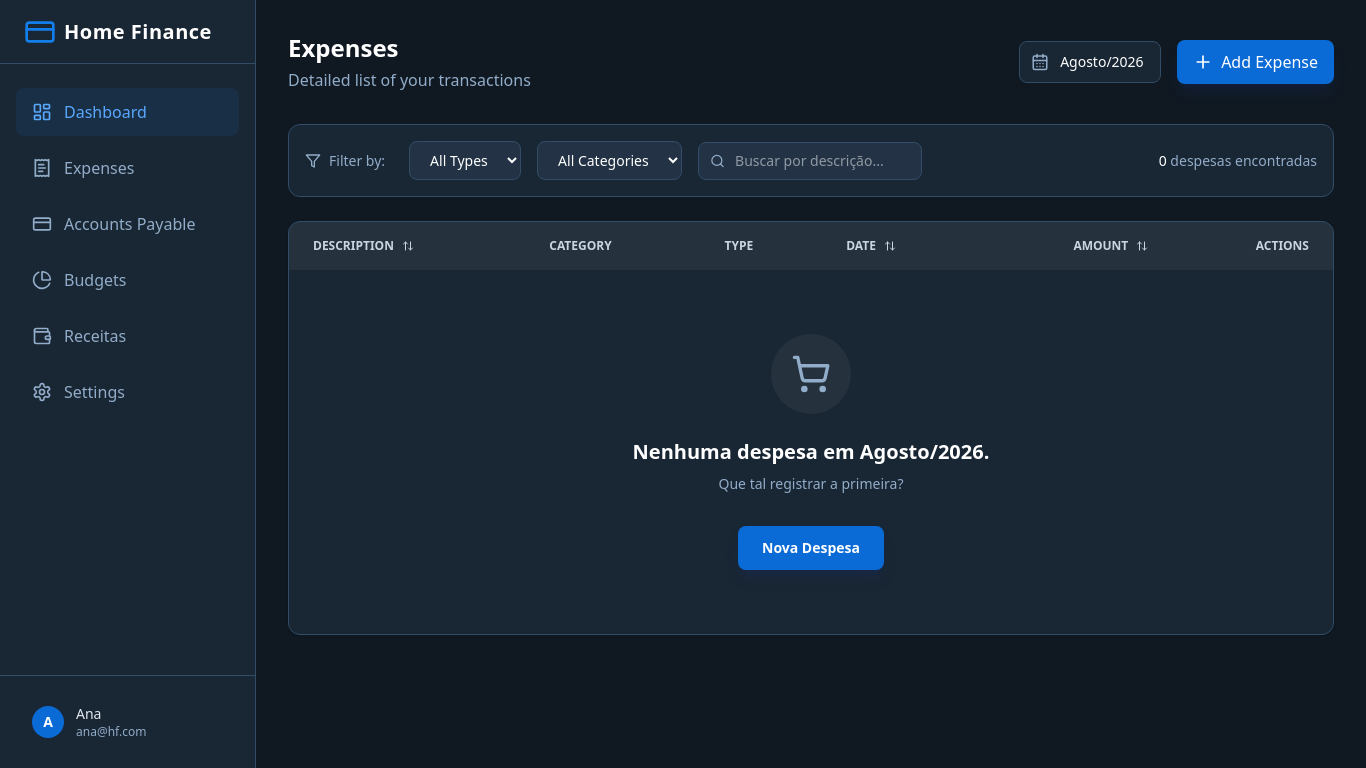
Scenario: Expenses (integração) › mostra estado vazio e abre o modal pela ação "Nova Despesa"
Expected: the heading "Nenhuma despesa em" is shown, x1=633 y1=438 x2=989 y2=465
Click the button "Nova Despesa" at (811, 548), box x1=738 y1=526 x2=884 y2=570
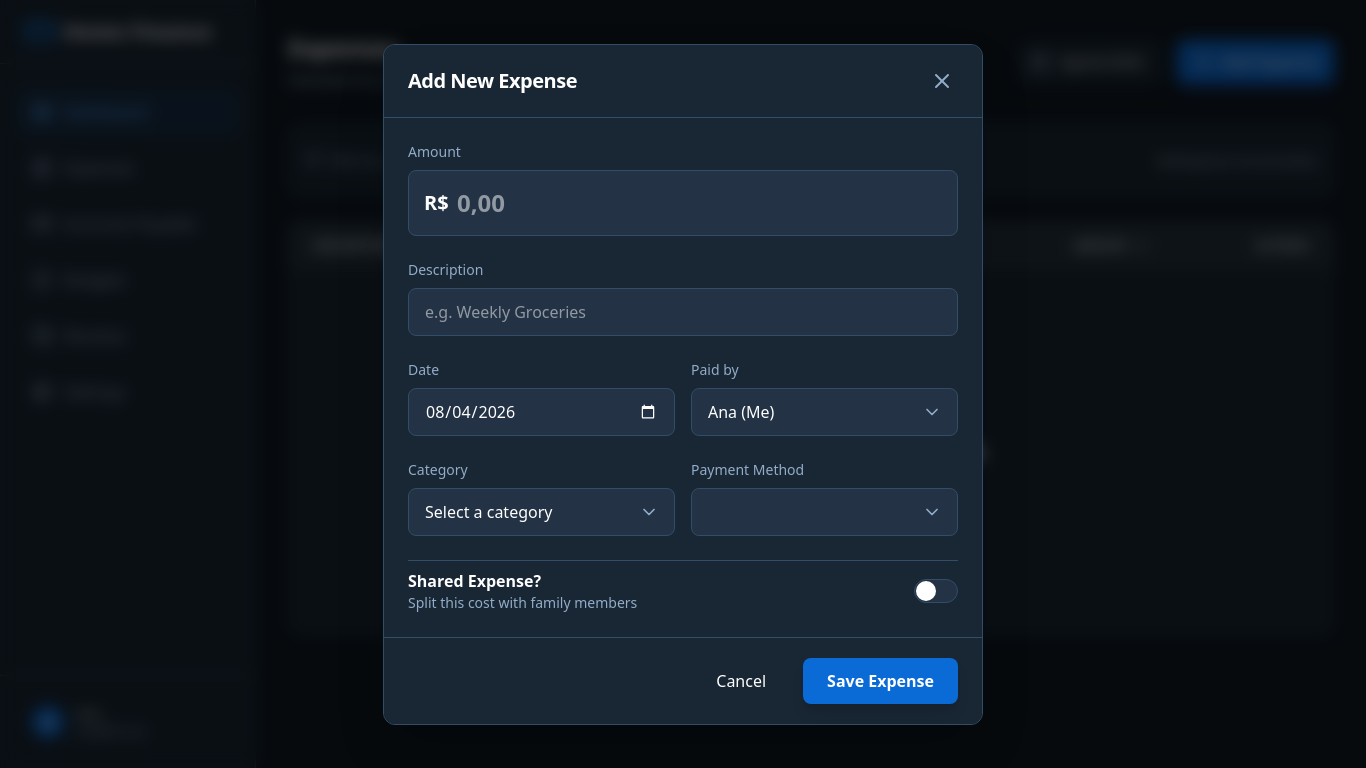
Expected: the heading "Add New Expense" is shown, x1=408 y1=66 x2=577 y2=94
